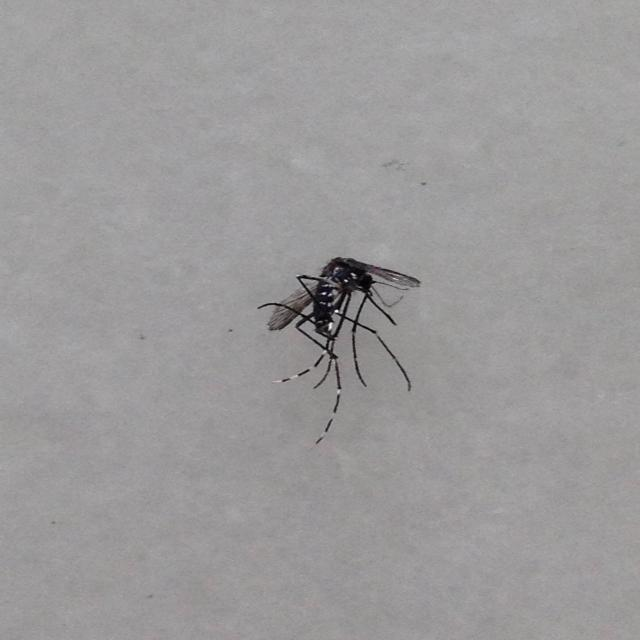albopictus: (257, 255, 421, 446)
